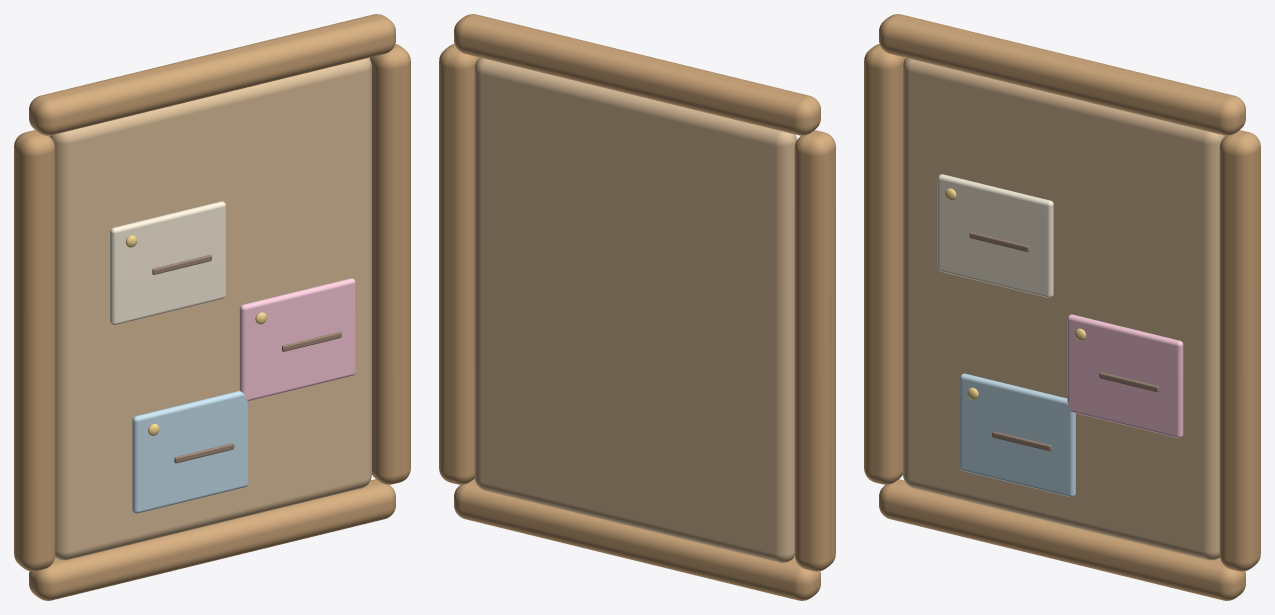
Rendered from 目标图高级厨房便签板组合.fbx.
The picture shows the model from 3 angles, left to right: view 1: azimuth 30°, elevation 25°; view 2: azimuth 150°, elevation 25°; view 3: azimuth 330°, elevation 25°; orthographic projection.
Parts seen in each view (by area): view 1: 高级厨房便签板组合_v347_圆角软木板, 高级厨房便签板组合_v347_左木框, 高级厨房便签板组合_v347_右木框, 高级厨房便签板组合_v347_上木框, 高级厨房便签板组合_v347_下木框, 高级厨房便签板组合_v347_浅蓝便签, 高级厨房便签板组合_v347_柔粉便签, 高级厨房便签板组合_v347_奶油便签; view 2: 高级厨房便签板组合_v347_圆角软木板, 高级厨房便签板组合_v347_左木框, 高级厨房便签板组合_v347_右木框, 高级厨房便签板组合_v347_上木框, 高级厨房便签板组合_v347_下木框; view 3: 高级厨房便签板组合_v347_圆角软木板, 高级厨房便签板组合_v347_右木框, 高级厨房便签板组合_v347_左木框, 高级厨房便签板组合_v347_上木框, 高级厨房便签板组合_v347_下木框, 高级厨房便签板组合_v347_奶油便签, 高级厨房便签板组合_v347_柔粉便签, 高级厨房便签板组合_v347_浅蓝便签.
Boxes of the visible parts, <box> form: 高级厨房便签板组合_v347_圆角软木板: <box>49,58,371,560</box>; 高级厨房便签板组合_v347_左木框: <box>14,130,55,571</box>; 高级厨房便签板组合_v347_右木框: <box>370,44,410,484</box>; 高级厨房便签板组合_v347_上木框: <box>29,14,395,135</box>; 高级厨房便签板组合_v347_下木框: <box>29,479,395,600</box>; 高级厨房便签板组合_v347_浅蓝便签: <box>132,390,248,513</box>; 高级厨房便签板组合_v347_柔粉便签: <box>239,278,355,400</box>; 高级厨房便签板组合_v347_奶油便签: <box>110,201,225,325</box>; 高级厨房便签板组合_v347_圆角软木板: <box>474,57,796,562</box>; 高级厨房便签板组合_v347_左木框: <box>794,130,835,571</box>; 高级厨房便签板组合_v347_右木框: <box>439,44,479,484</box>; 高级厨房便签板组合_v347_上木框: <box>454,14,820,135</box>; 高级厨房便签板组合_v347_下木框: <box>454,479,820,600</box>; 高级厨房便签板组合_v347_圆角软木板: <box>903,58,1225,560</box>; 高级厨房便签板组合_v347_右木框: <box>1219,130,1260,571</box>; 高级厨房便签板组合_v347_左木框: <box>864,44,904,484</box>; 高级厨房便签板组合_v347_上木框: <box>879,14,1245,135</box>; 高级厨房便签板组合_v347_下木框: <box>879,479,1245,600</box>; 高级厨房便签板组合_v347_奶油便签: <box>937,174,1053,297</box>; 高级厨房便签板组合_v347_柔粉便签: <box>1067,314,1183,438</box>; 高级厨房便签板组合_v347_浅蓝便签: <box>960,373,1075,497</box>.
Size of the model in its own units: 52.5 by 64.5 by 6.25.
